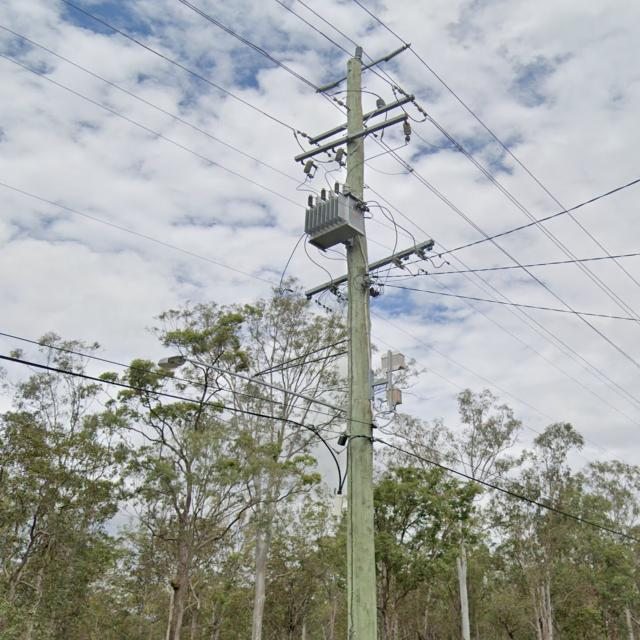HV-transmission: (296, 41, 424, 178)
LV link: (413, 247, 451, 268), (391, 258, 427, 277)
crossarm: (304, 238, 434, 298), (307, 92, 416, 145), (294, 113, 408, 161), (314, 43, 413, 94)
timber-pole: (343, 58, 379, 640)
transformer: (303, 182, 365, 254)
